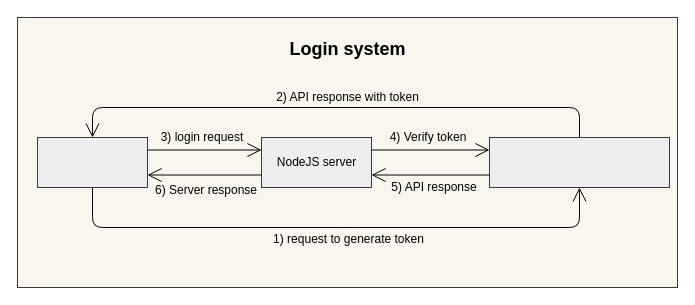
Some shapes in this 695 by 305 pixel diagram are drawn without their labels. The box of each missing label's shape, as (x1, y1, x2, y2) in pixels:
Login API (Google, Facebook, GitHub...): (488, 136, 670, 188)
ReactJS app: (36, 136, 148, 188)
